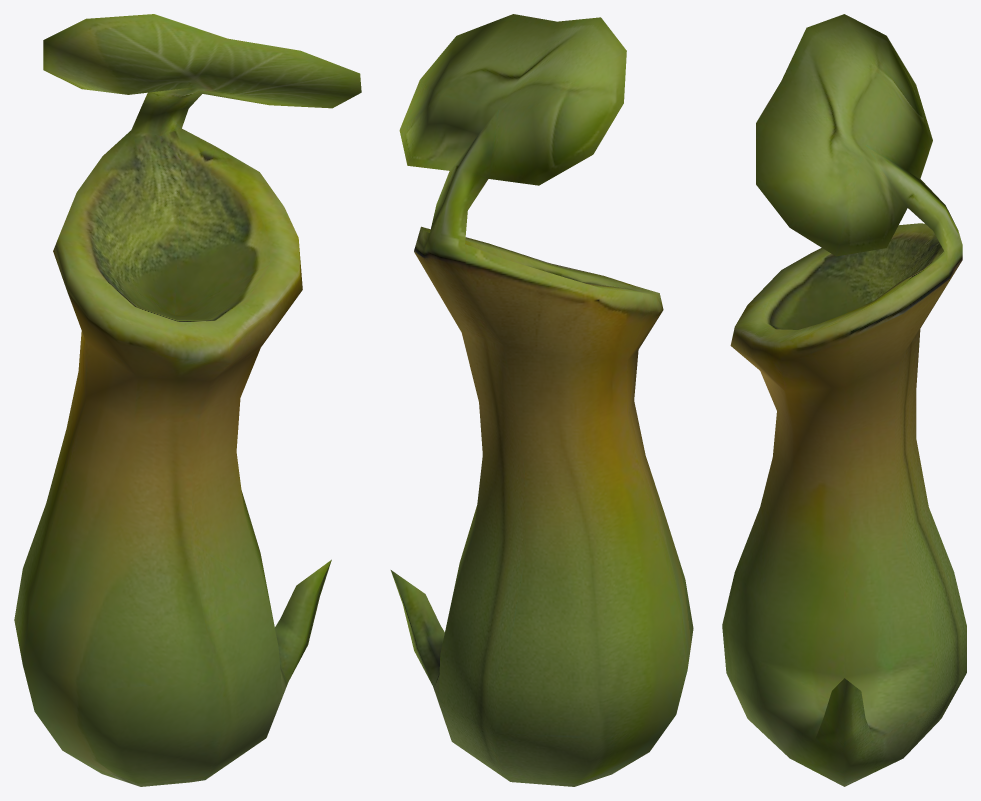
The model's file is Plant02.glb.
3 renders of one model, left to right at view 1: azimuth 30°, elevation 25°; view 2: azimuth 150°, elevation 25°; view 3: azimuth 270°, elevation 25°, orthographic. The views are drawn at different scales.
Visible parts, largest first — view 1: Plants.002; view 2: Plants.002; view 3: Plants.002.
Boxes of the visible parts, x1,y1,x2,y2 form: Plants.002: (14,14,361,786); Plants.002: (390,14,693,786); Plants.002: (722,14,966,786).
Bounding box in the file's own units: 0.9599 × 2.33 × 0.7126.
Materials: 1 (1 with a texture image).
